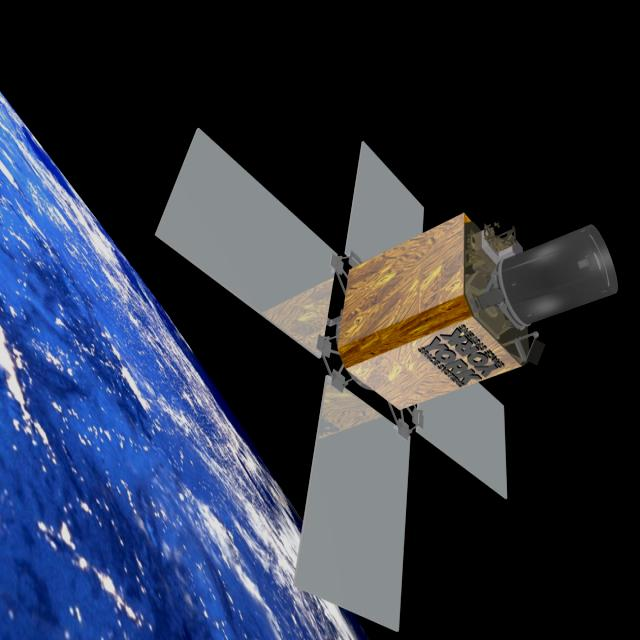satellite: (153, 99, 617, 624)
